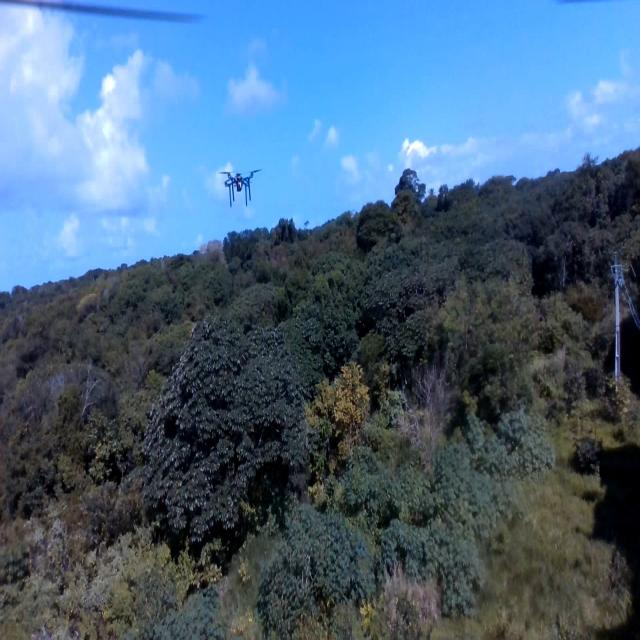-uav-: (215, 158, 265, 215)
